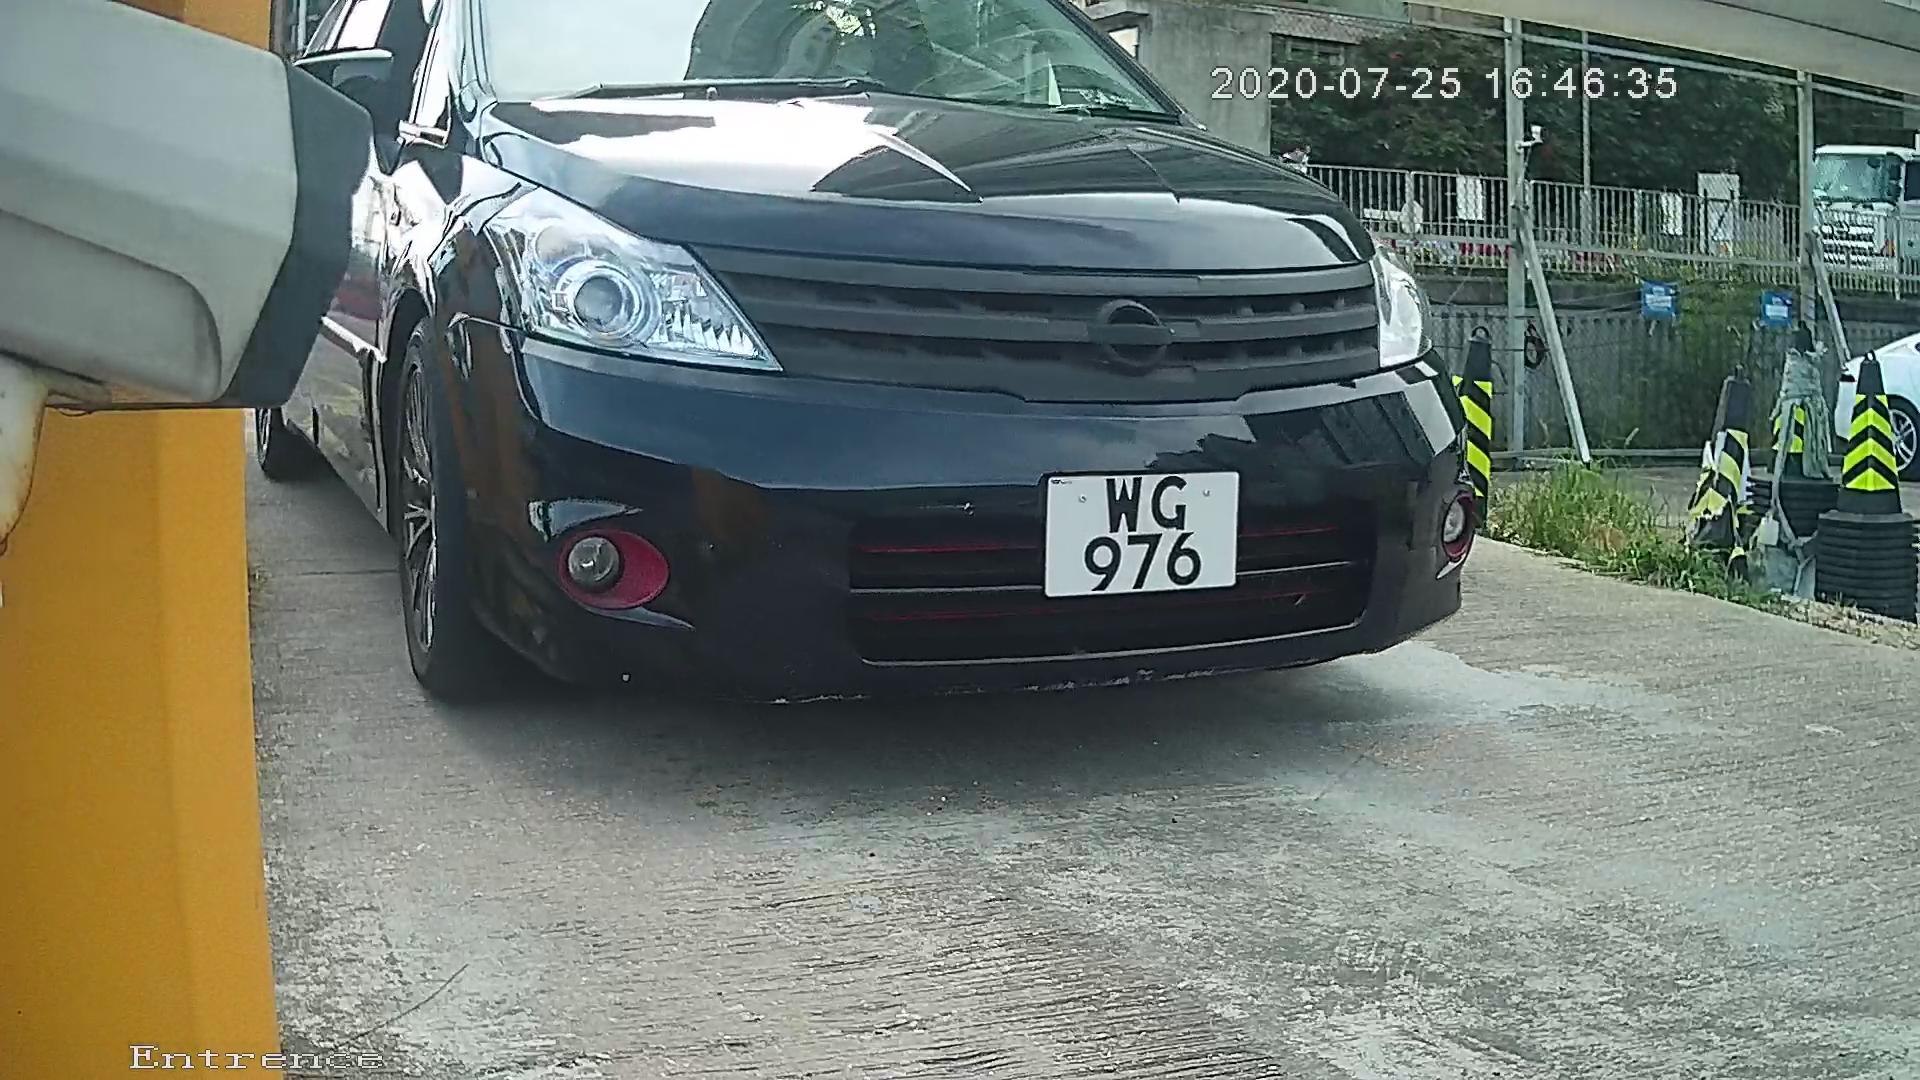License Plate: (1012, 463, 1261, 618)
